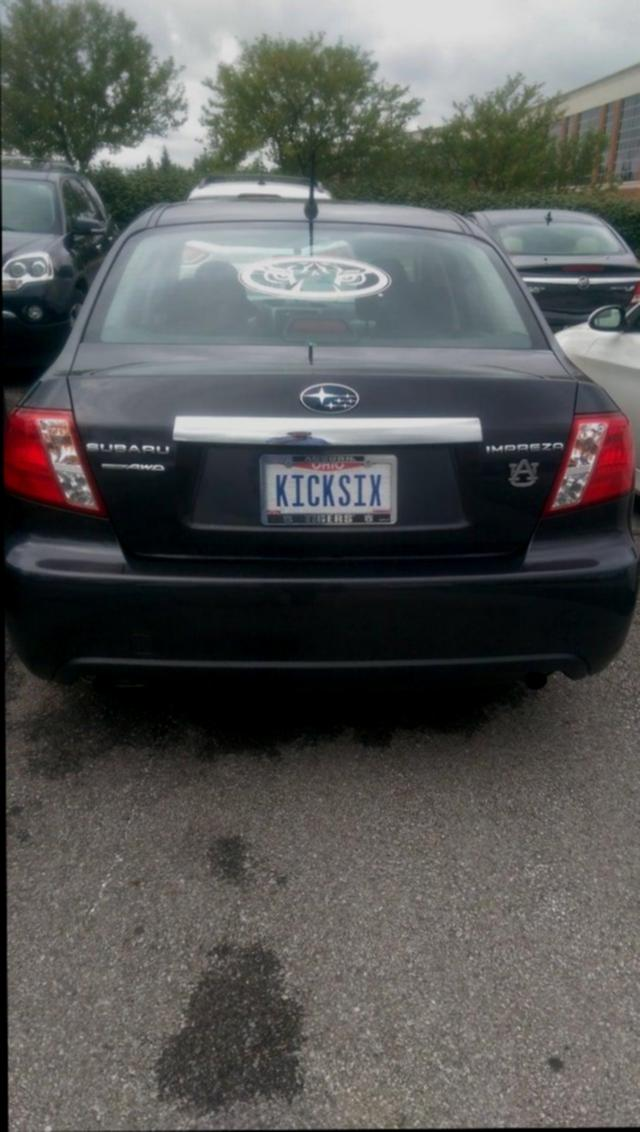License_Plate: (250, 435, 411, 540)
